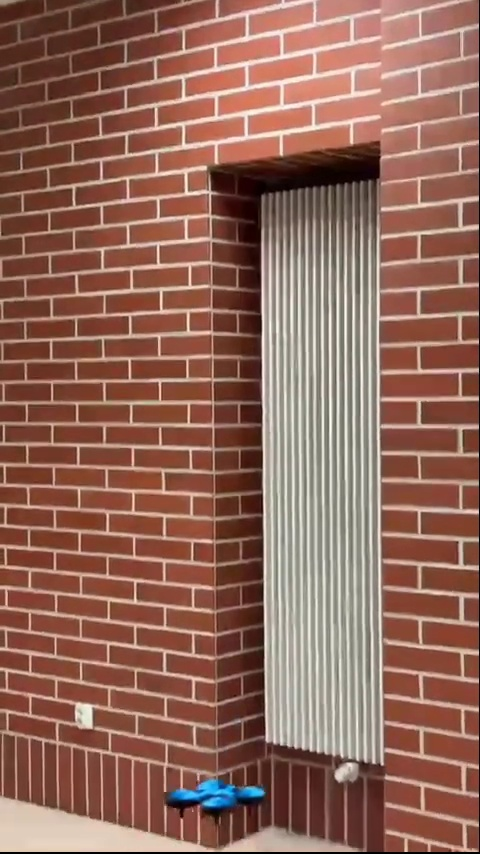drone: (160, 775, 268, 817)
